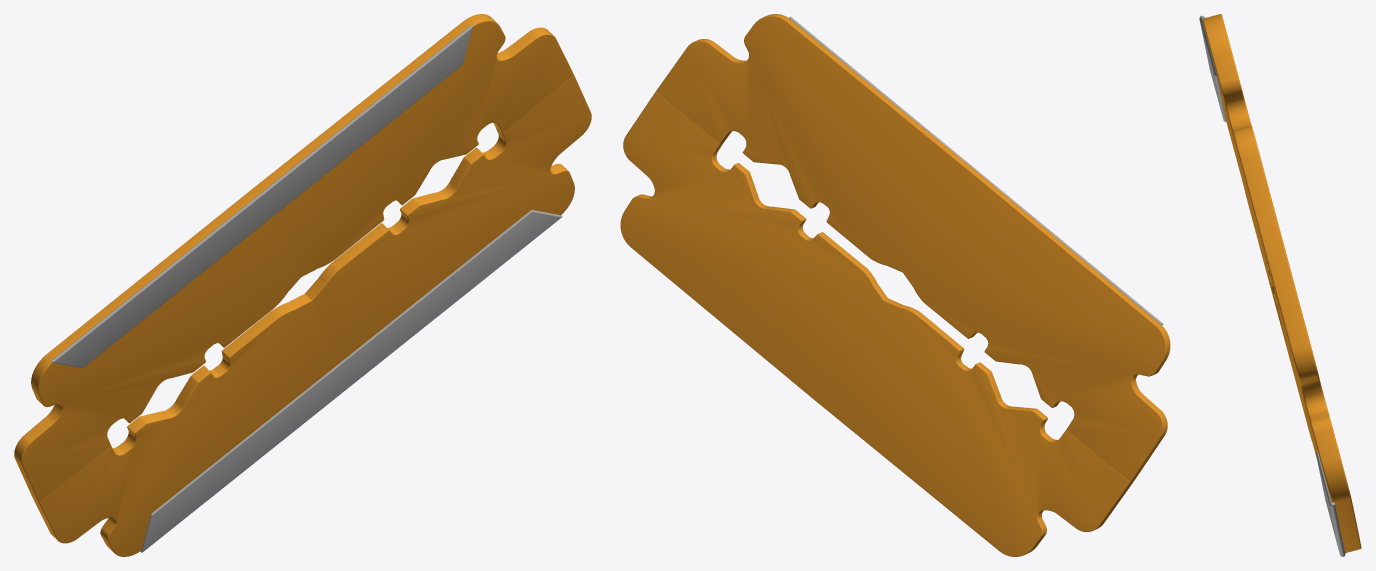
Rendered from Razor Blade.glb.
3 renders of one model, left to right at view 1: azimuth 30°, elevation 25°; view 2: azimuth 150°, elevation 25°; view 3: azimuth 270°, elevation 25°, orthographic. The views are drawn at different scales.
Parts seen in each view (by area): view 1: Plane.010, Plane.011; view 2: Plane.010, Plane.011; view 3: Plane.010, Plane.011.
Part boxes in pixels (x1,y1,x2,y2): Plane.010: (14,14,591,556); Plane.011: (51,25,562,552); Plane.010: (620,14,1170,556); Plane.011: (789,16,1163,324); Plane.010: (1202,14,1361,552); Plane.011: (1199,15,1345,556).
Bounding box in the file's own units: 6.79 × 5.48 × 1.06.
